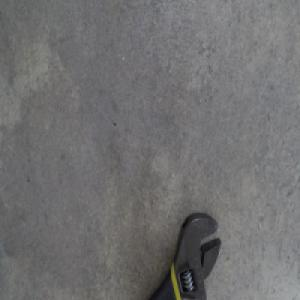AdjustableWrench: (148, 210, 223, 299)
